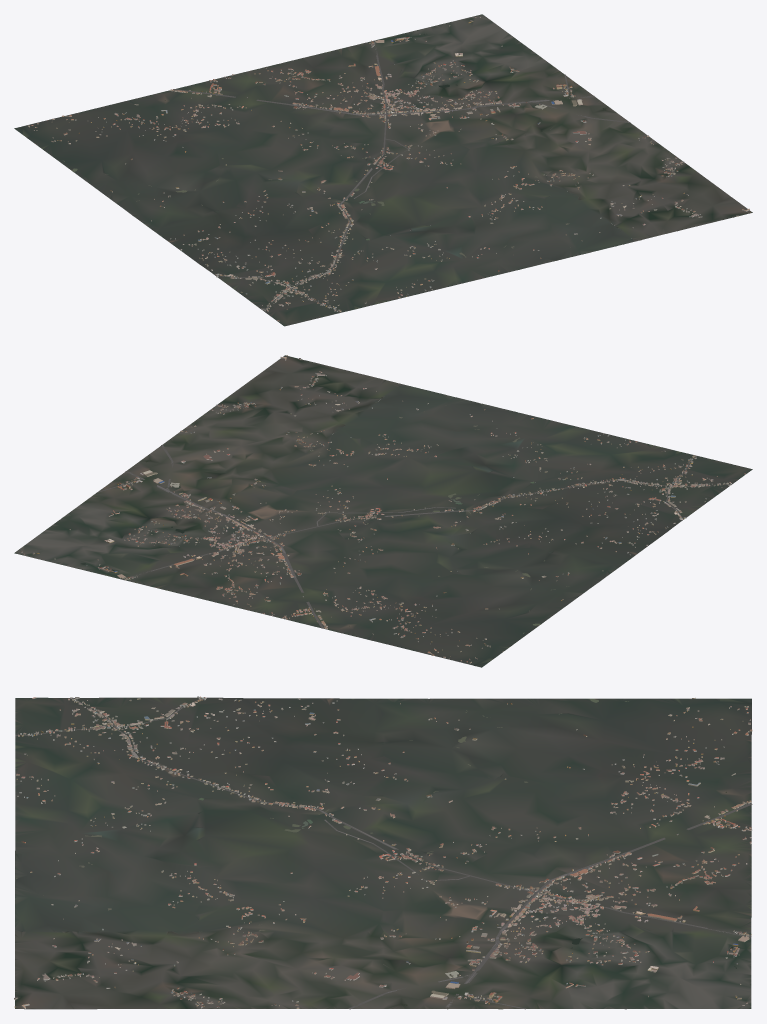
The picture shows the model from 3 angles, top to bottom: view 1: azimuth 30°, elevation 25°; view 2: azimuth 150°, elevation 25°; view 3: azimuth 270°, elevation 25°; orthographic projection. The views are drawn at different scales.
Parts seen in each view (by area): view 1: ground, buildings, roads; view 2: ground, buildings, roads; view 3: ground, buildings, roads.
Part boxes in pixels (x1,y1,x2,y2): ground: (14, 14, 752, 326); buildings: (27, 16, 750, 321); roads: (173, 41, 630, 312); ground: (14, 355, 752, 667); buildings: (21, 355, 745, 663); roads: (97, 445, 731, 628); ground: (15, 697, 751, 1009); buildings: (14, 696, 752, 1009); roads: (15, 697, 752, 1009).
Size of the model in its own units: 5617 by 32.28 by 5627.
